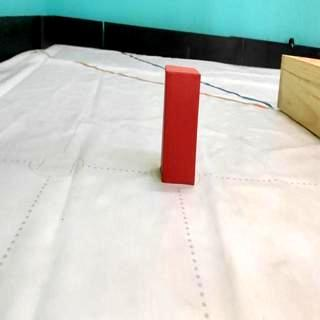redbox: (160, 65, 201, 185)
